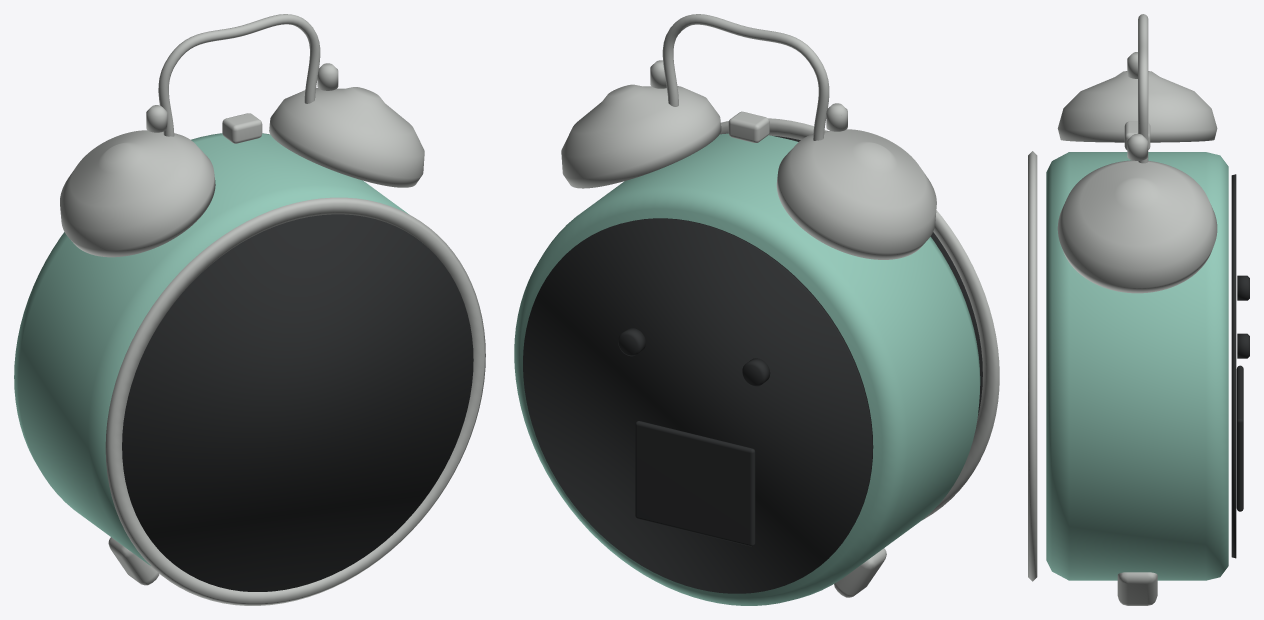
Rendered from result.glb.
The picture shows the model from 3 angles, left to right: view 1: azimuth 30°, elevation 25°; view 2: azimuth 150°, elevation 25°; view 3: azimuth 270°, elevation 25°; orthographic projection. The views are drawn at different scales.
Visible parts, largest first — view 1: Face, Clock body, Front rim, Bell -1, bell, Top handle, Foot -1, Top button; view 2: Rear plate, Clock body, Bell -1, Battery cover, bell, Front rim, Top handle, Foot -1, Top button, Face; view 3: Clock body, bell, Bell -1, Front rim, Rear plate, Top handle, Foot 1, Battery cover, Bell bolt 1, Rear knob -1, Rear knob 1, Top button.
Part boxes in pixels (x1,y1,x2,y2): Face: [122, 214, 473, 591]; Clock body: [14, 133, 409, 565]; Front rim: [105, 197, 485, 605]; Bell -1: [60, 130, 215, 257]; bell: [269, 87, 424, 187]; Top handle: [158, 14, 320, 136]; Foot -1: [108, 537, 159, 585]; Top button: [222, 113, 262, 143]; Rear plate: [523, 218, 873, 593]; Clock body: [514, 133, 980, 605]; Bell -1: [776, 129, 936, 259]; Battery cover: [635, 421, 755, 546]; bell: [561, 84, 721, 188]; Front rim: [720, 118, 999, 519]; Top handle: [662, 14, 829, 140]; Foot -1: [834, 548, 886, 597]; Top button: [728, 111, 769, 142]; Face: [774, 136, 982, 415]; Clock body: [1046, 152, 1228, 580]; bell: [1057, 160, 1217, 293]; Bell -1: [1057, 71, 1217, 142]; Front rim: [1028, 151, 1037, 581]; Rear plate: [1231, 174, 1236, 558]; Top handle: [1138, 14, 1148, 163]; Foot 1: [1117, 572, 1157, 605]; Battery cover: [1236, 365, 1243, 511]; Bell bolt 1: [1127, 133, 1147, 160]; Rear knob -1: [1237, 275, 1249, 300]; Rear knob 1: [1237, 333, 1249, 358]; Top button: [1124, 121, 1150, 150].
Size of the model in its own units: 0.756 by 1.02 by 0.389.
15 materials, 15 textured.
